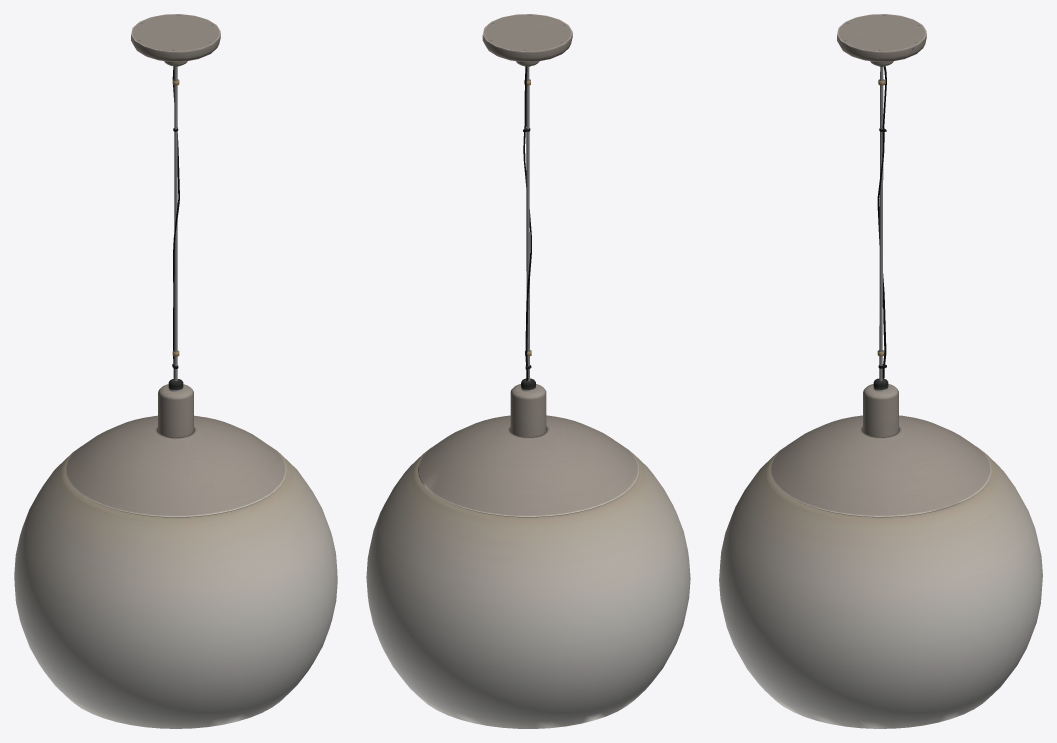
Rendered from modern_ceiling_lamp_01_game.gltf.
3 renders of one model, left to right at view 1: azimuth 30°, elevation 25°; view 2: azimuth 150°, elevation 25°; view 3: azimuth 270°, elevation 25°, orthographic.
Parts seen in each view (by area): view 1: modern_ceiling_lamp_01; view 2: modern_ceiling_lamp_01; view 3: modern_ceiling_lamp_01.
Part boxes in pixels (<box>): modern_ceiling_lamp_01: <box>14,14,337,728</box>; modern_ceiling_lamp_01: <box>366,14,690,728</box>; modern_ceiling_lamp_01: <box>719,14,1042,728</box>.
Bounding box in the file's own units: 0.4316 × 0.9516 × 0.4317.
Materials: 3 (3 with a texture image).
